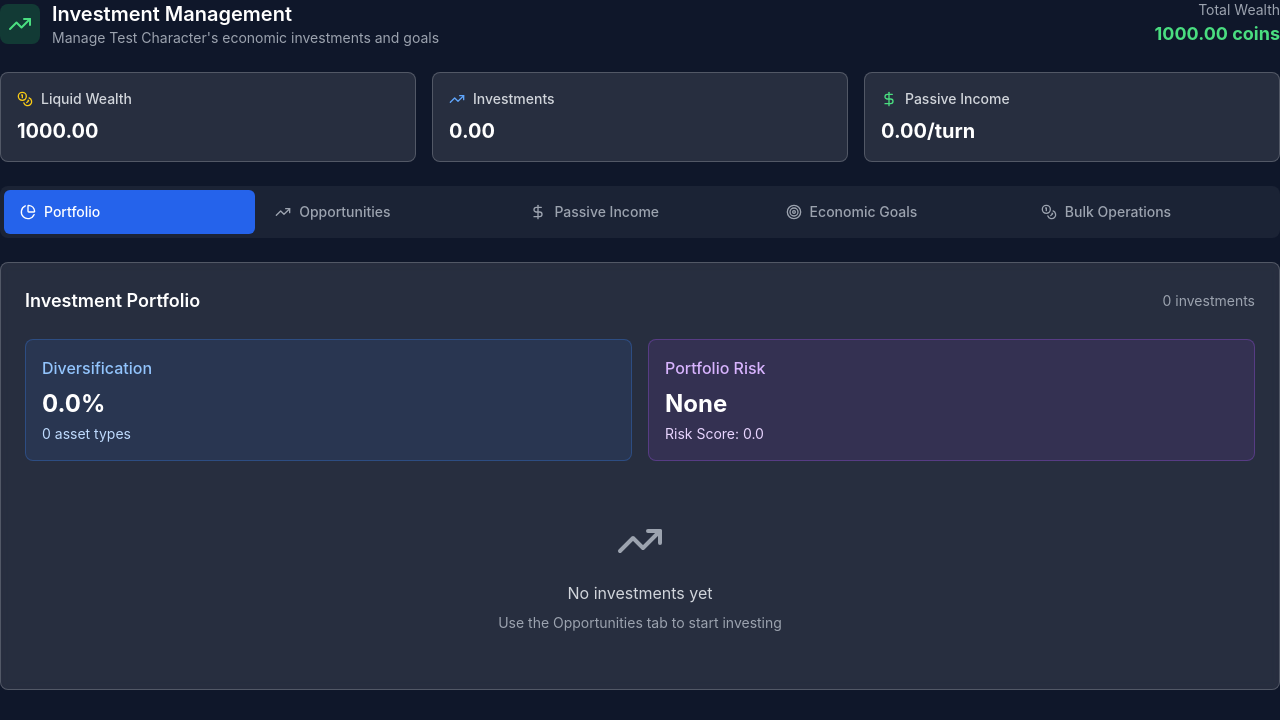
Test: InvestmentEditor Basic Tests › can switch to economic goals tab
Click the button "Economic Goals" at [895, 212], box [770,190,1021,234]
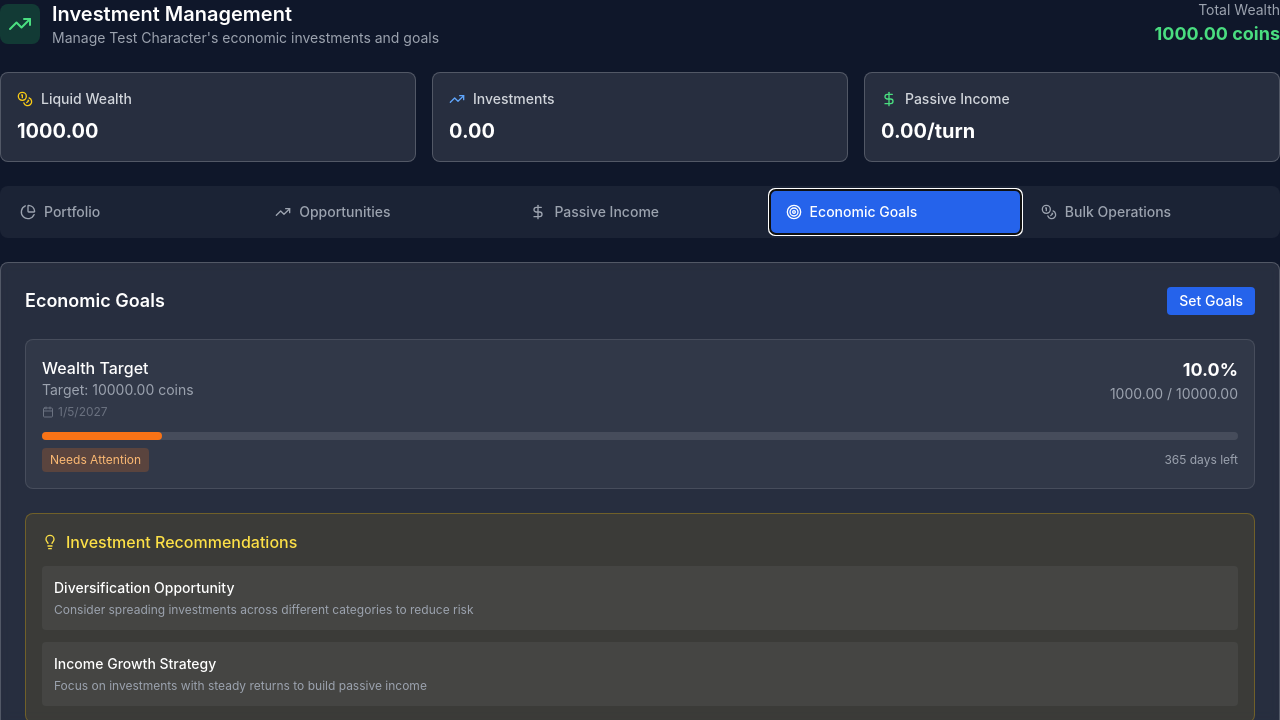
Check: the number of buttons "Economic Goals" is 2, box [770,190,1021,234]; [25,287,165,315]
Check: the button "Set Goals" is shown, box [1167,287,1255,315]
